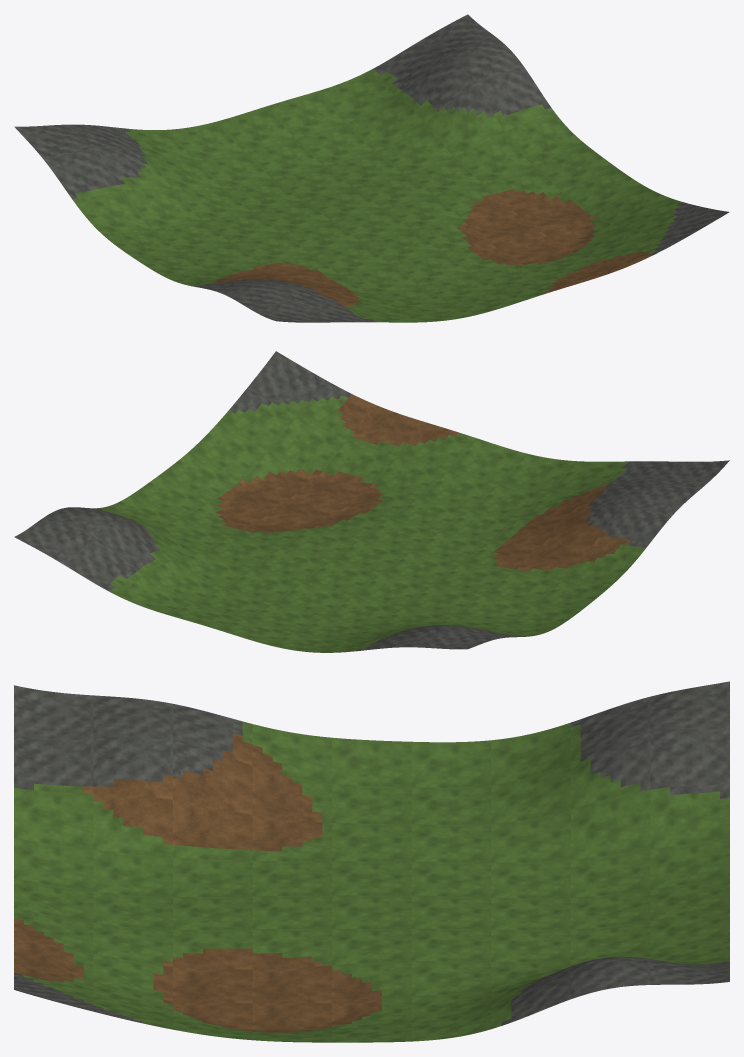
File: terrain_v5.obj
3 renders of one model, top to bottom at view 1: azimuth 30°, elevation 25°; view 2: azimuth 150°, elevation 25°; view 3: azimuth 270°, elevation 25°, orthographic. The views are drawn at different scales.
Visible parts, largest first — view 1: terrain_v5; view 2: terrain_v5; view 3: terrain_v5.
Part boxes in pixels (<box>): terrain_v5: <box>14,14,729,322</box>; terrain_v5: <box>14,351,729,652</box>; terrain_v5: <box>14,681,729,1042</box>.
Size of the model in its own units: 120 by 16.4 by 120.
5 materials, 5 textured.
